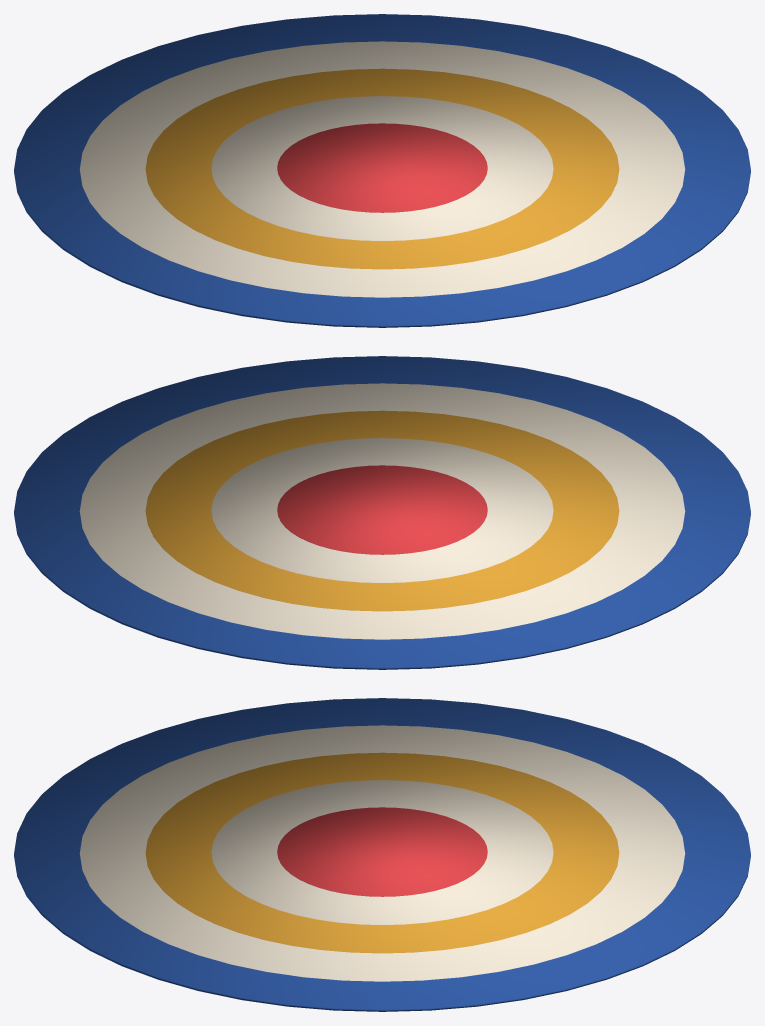
File: koberec.glb
3 renders of one model, top to bottom at view 1: azimuth 30°, elevation 25°; view 2: azimuth 150°, elevation 25°; view 3: azimuth 270°, elevation 25°, orthographic.
Visible parts, largest first — view 1: koberec; view 2: koberec; view 3: koberec.
Part boxes in pixels (x1,y1,x2,y2): koberec: (14,14,750,327); koberec: (14,356,750,669); koberec: (14,698,750,1011).
Bounding box in the file's own units: 2.8 × 0.018 × 2.8.
